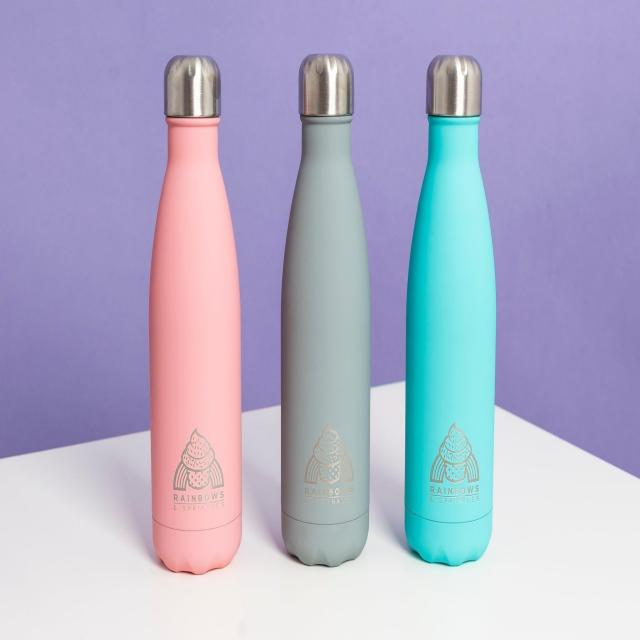gym bottle: (144, 51, 246, 577), (275, 49, 375, 571), (401, 50, 500, 569)
